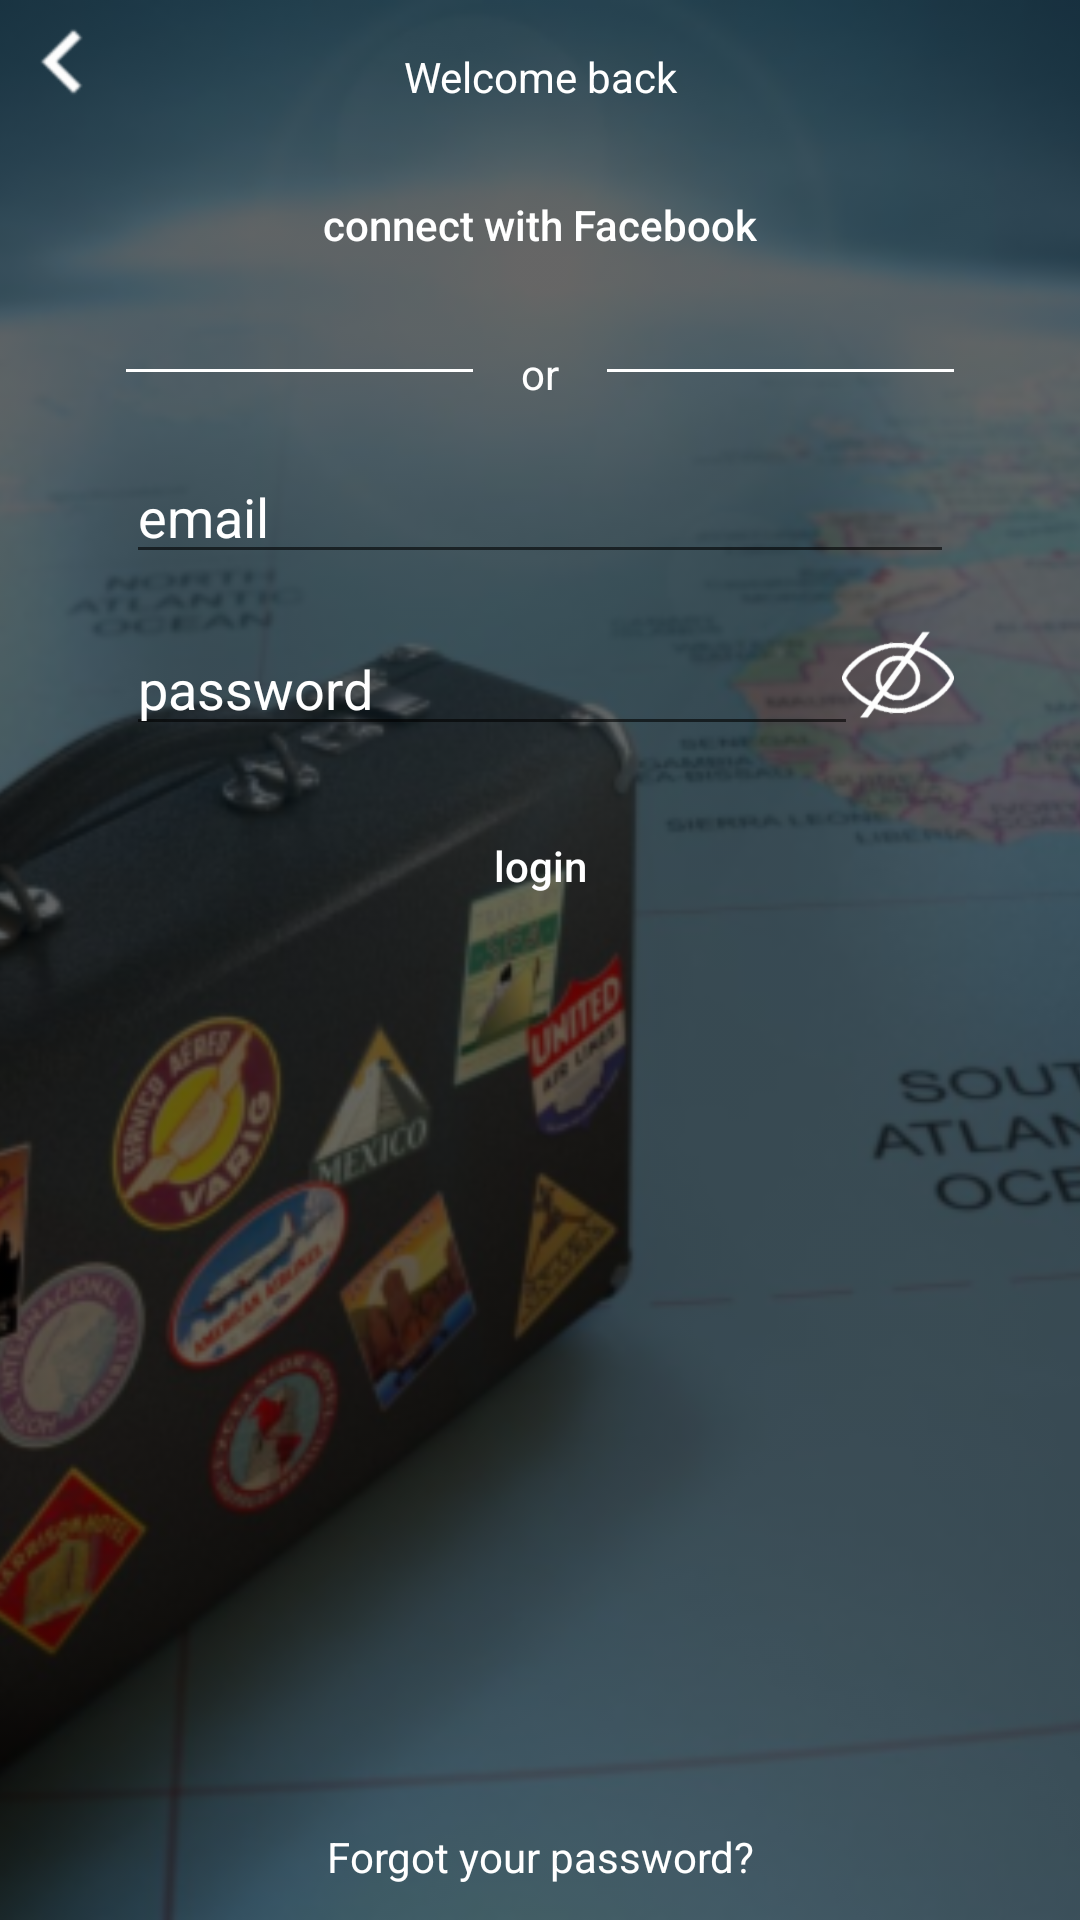

Icons on this 1080 × 1920 Android screen, each with its box as (x1, y1, x2, y2):
arrow left: (41, 29, 82, 94)
